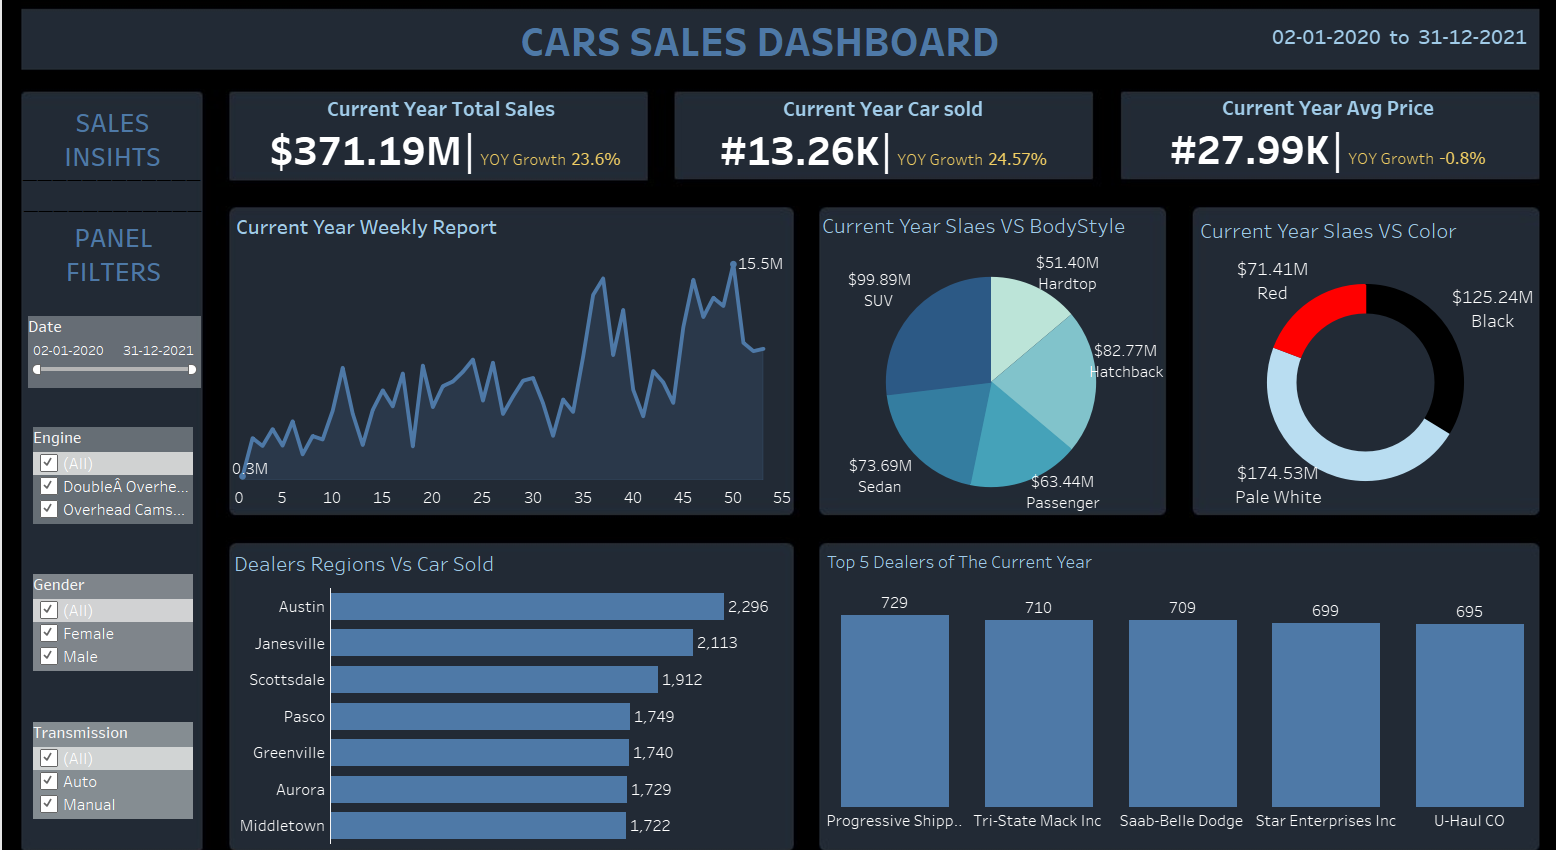

The dashboard page shown, as its layout file describes it:
{"tool":"tableau","page":{"name":"Dashboard","canvas":[1600,900],"ordinal":0},"visuals":[{"type":"image","param":"C:/Users/HP/Downloads/Car Sales Background.jpg","box":[8,8,1584,884]},{"type":"worksheet","title":"DATE","mark":"Automatic","box":[1274,27,291,60]},{"type":"text","box":[536,33,499,54]},{"type":"worksheet","title":"YTD Avg Price","mark":"Automatic","box":[1143,112,409,87]},{"type":"worksheet","title":"YTD Total Sales","mark":"Automatic","box":[251,114,419,83]},{"type":"worksheet","title":"YTD Car Solds","mark":"Automatic","box":[698,115,410,81]},{"type":"text","box":[33,124,197,72]},{"type":"text","box":[38,171,197,37]},{"type":"text","box":[39,202,197,37]},{"type":"worksheet","title":"Current Year Slaes VS BodyStyle","mark":"Pie","box":[837,227,346,307]},{"type":"worksheet","title":"Current Year Weekly Report","mark":"Line","rows":["Calculation_101331022373142528","Calculation_101331022373142528"],"cols":["Date"],"box":[251,228,561,302]},{"type":"text","box":[34,232,197,85]},{"type":"worksheet","title":"Current Year Slaes VS Color","mark":"Pie","rows":["Calculation_101331022404378635","Calculation_101331022404378635"],"box":[1215,232,339,298]},{"type":"filter","title":"Current Year Weekly Report","param":"[federated.0z9wctn1grclf3173ci411f9eaue].[none:Date:qk]","box":[47,336,173,72]},{"type":"filter","title":"Current Year Weekly Report","param":"[federated.0z9wctn1grclf3173ci411f9eaue].[none:Engine:nk]","box":[52,447,160,97]},{"type":"worksheet","title":"Dealers Regions Vs Car Sold","mark":"Automatic","rows":["Dealer_Region"],"cols":["Precious Year Total Sales  (copy)_101331022379909124"],"box":[249,565,563,299]},{"type":"worksheet","title":"Top 5 Dealers of The Current Year","mark":"Automatic","rows":["Precious Year Total Sales  (copy)_101331022379909124"],"cols":["Dealer_Name"],"box":[842,565,719,302]},{"type":"filter","title":"Current Year Weekly Report","param":"[federated.0z9wctn1grclf3173ci411f9eaue].[none:Gender:nk]","box":[52,594,160,97]},{"type":"filter","title":"Current Year Weekly Report","param":"[federated.0z9wctn1grclf3173ci411f9eaue].[none:Transmission:nk]","box":[52,742,160,97]}]}

Visuals, with their boxes in screenshot pixels (x1, y1, x2, y2), scaled from the page's 1600x900 canvas onto the 1556x850 screenshot:
image: {"left": 8, "top": 8, "right": 1548, "bottom": 842}
"DATE" worksheet: {"left": 1239, "top": 26, "right": 1522, "bottom": 82}
text: {"left": 521, "top": 31, "right": 1007, "bottom": 82}
"YTD Avg Price" worksheet: {"left": 1112, "top": 106, "right": 1509, "bottom": 188}
"YTD Total Sales" worksheet: {"left": 244, "top": 108, "right": 652, "bottom": 186}
"YTD Car Solds" worksheet: {"left": 679, "top": 109, "right": 1078, "bottom": 185}
text: {"left": 32, "top": 117, "right": 224, "bottom": 185}
text: {"left": 37, "top": 162, "right": 229, "bottom": 196}
text: {"left": 38, "top": 191, "right": 230, "bottom": 226}
"Current Year Slaes VS BodyStyle" worksheet (Pie marks): {"left": 814, "top": 214, "right": 1150, "bottom": 504}
"Current Year Weekly Report" worksheet (Line marks): {"left": 244, "top": 215, "right": 790, "bottom": 501}
text: {"left": 33, "top": 219, "right": 225, "bottom": 299}
"Current Year Slaes VS Color" worksheet (Pie marks): {"left": 1182, "top": 219, "right": 1511, "bottom": 501}
"Current Year Weekly Report" filter: {"left": 46, "top": 317, "right": 214, "bottom": 385}
"Current Year Weekly Report" filter: {"left": 51, "top": 422, "right": 206, "bottom": 514}
"Dealers Regions Vs Car Sold" worksheet: {"left": 242, "top": 534, "right": 790, "bottom": 816}
"Top 5 Dealers of The Current Year" worksheet: {"left": 819, "top": 534, "right": 1518, "bottom": 819}
"Current Year Weekly Report" filter: {"left": 51, "top": 561, "right": 206, "bottom": 653}
"Current Year Weekly Report" filter: {"left": 51, "top": 701, "right": 206, "bottom": 792}
